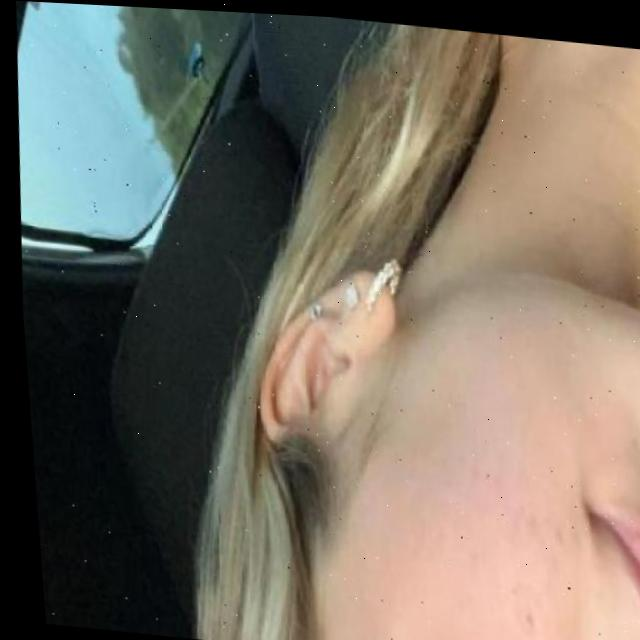Acne: (513, 523, 584, 640)
